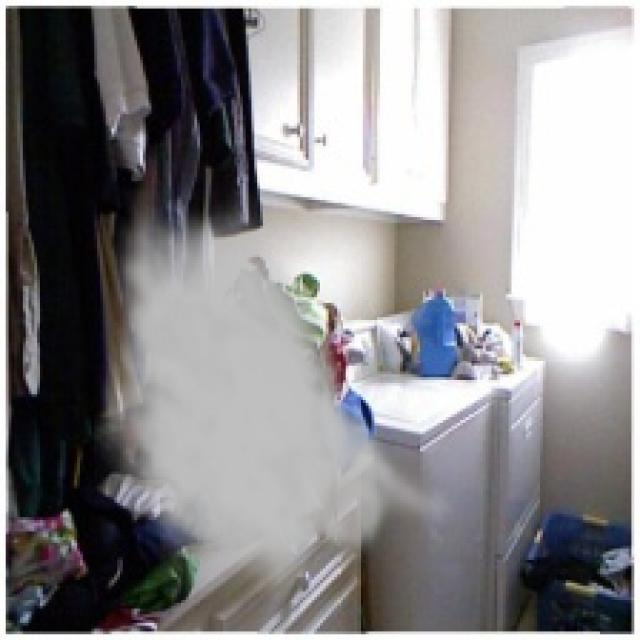smoke: (94, 185, 457, 606)
